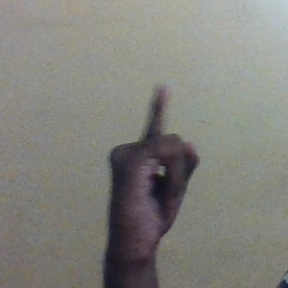I: (105, 84, 198, 248)
